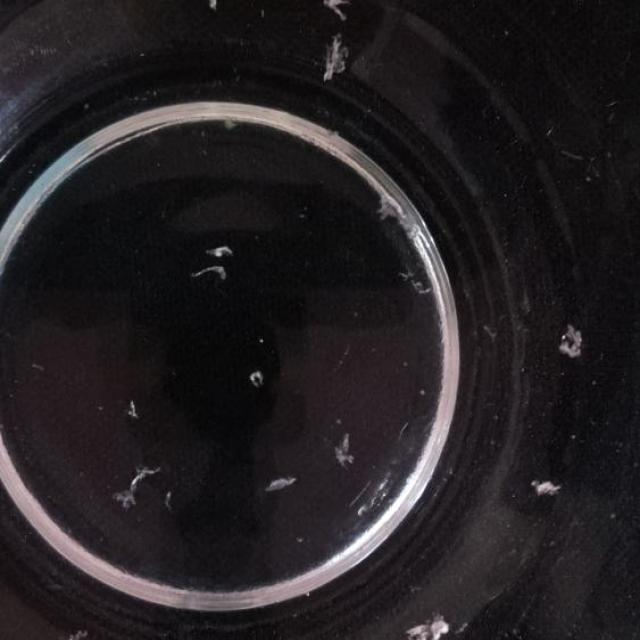fiber: (116, 450, 167, 509), (319, 31, 356, 86), (230, 355, 272, 396), (554, 320, 582, 370), (252, 466, 297, 497), (325, 429, 363, 464), (183, 259, 222, 292), (400, 620, 462, 639), (192, 238, 237, 264), (113, 387, 150, 417), (18, 627, 105, 639), (530, 462, 558, 494), (317, 0, 346, 20), (194, 0, 227, 15)
